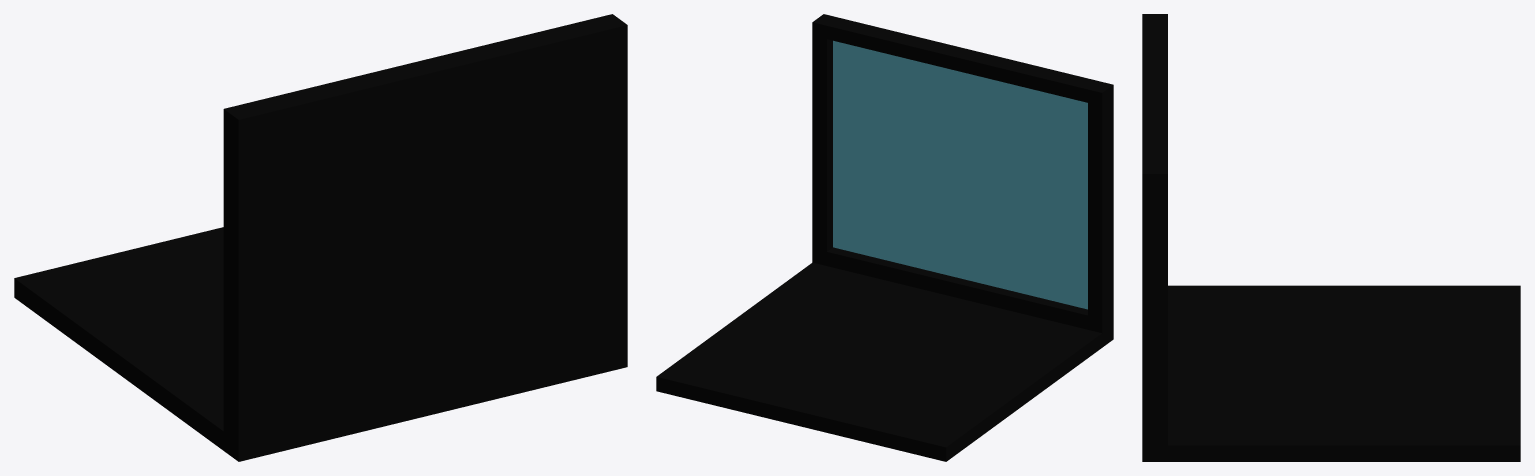
The model's file is keyboard.fbx.
3 views of the same model, side by side, from view 1: azimuth 30°, elevation 25°; view 2: azimuth 150°, elevation 25°; view 3: azimuth 270°, elevation 25° (orthographic). The views are drawn at different scales.
Parts seen in each view (by area): view 1: Cube; view 2: Cube; view 3: Cube.
Boxes of the visible parts, x1,y1,x2,y2 form: Cube: [14, 14, 627, 461]; Cube: [656, 14, 1113, 461]; Cube: [1142, 14, 1520, 461].
Bounding box in the file's own units: 200 × 168 × 200.
